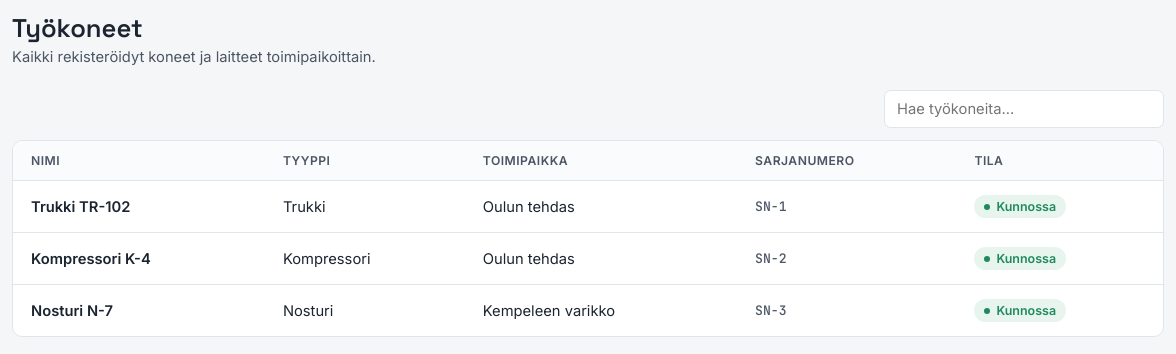
Test: Assets - haku ja lajittelu › näyttää tyhjän tilan kun mikään ei täsmää
The image size is (1176, 354).
Expected: the text "Trukki TR-102" is shown, [13, 180, 265, 232]
Type "ei löydy mitään" into the search field labelled "Hae työkoneita…" at x=1024, y=109, box [884, 90, 1164, 128]
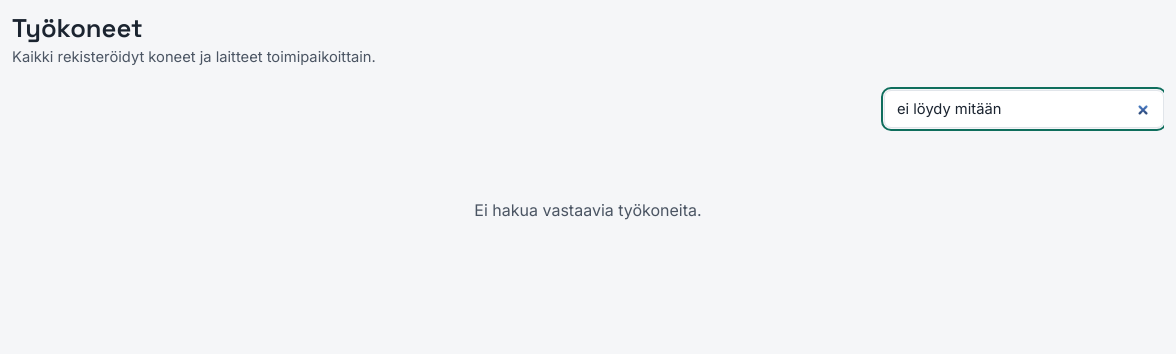
Result: the text "Ei hakua vastaavia työkoneita." is shown at [474, 200, 702, 220]
